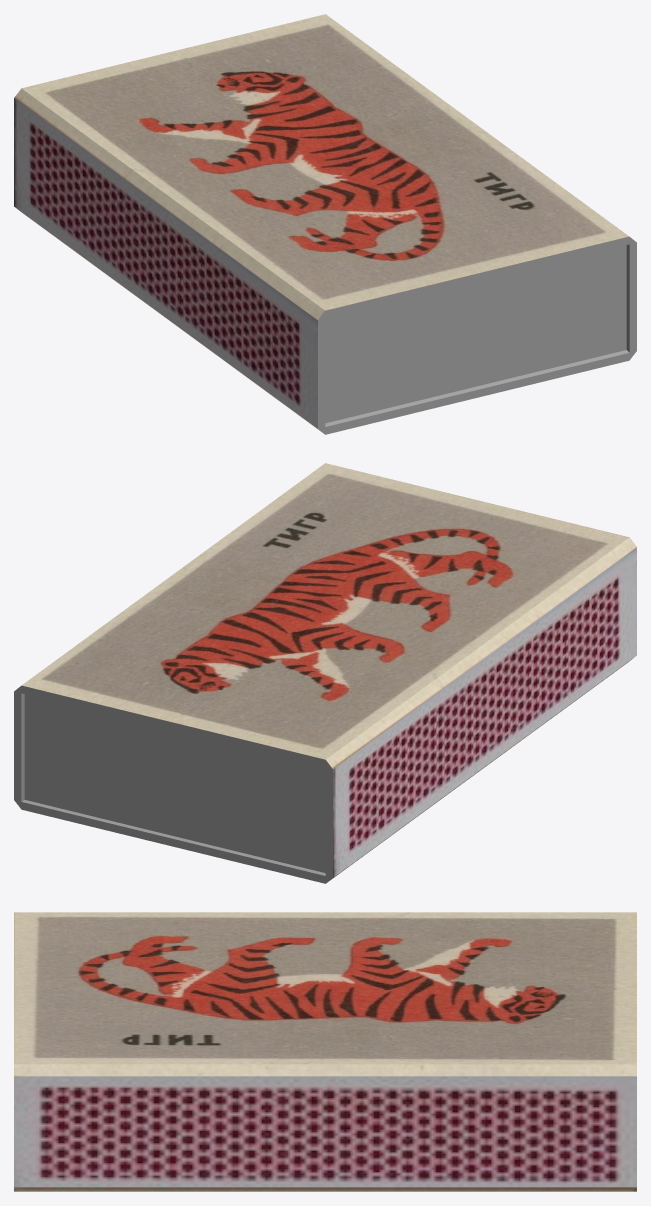
File: Match box.fbx
3 renders of one model, top to bottom at view 1: azimuth 30°, elevation 25°; view 2: azimuth 150°, elevation 25°; view 3: azimuth 270°, elevation 25°, orthographic. The views are drawn at different scales.
Visible parts, largest first — view 1: pCube1; view 2: pCube1; view 3: pCube1.
Boxes of the visible parts, x1,y1,x2,y2 form: pCube1: (14,14,636,434); pCube1: (14,463,636,883); pCube1: (14,912,636,1191).
Bounding box in the file's own units: 19.28 × 7.17 × 31.79.
